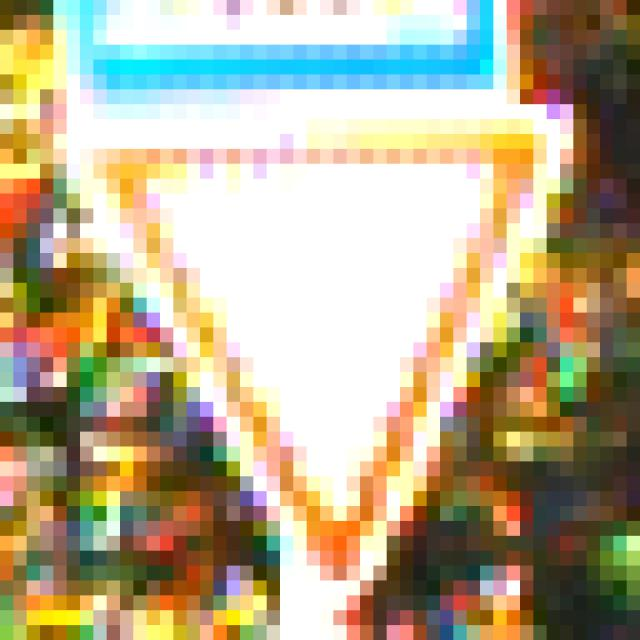Give Way: (81, 76, 574, 567)
